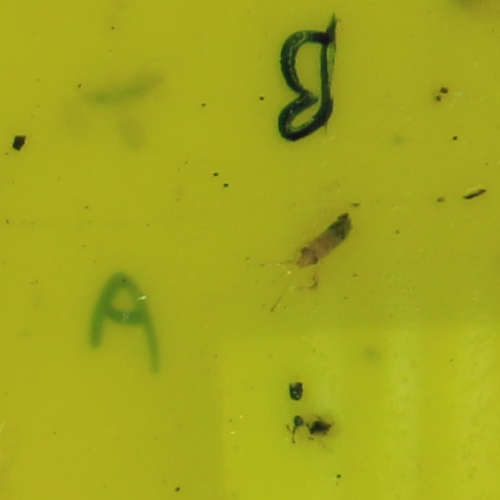psylla: (297, 211, 354, 271)
